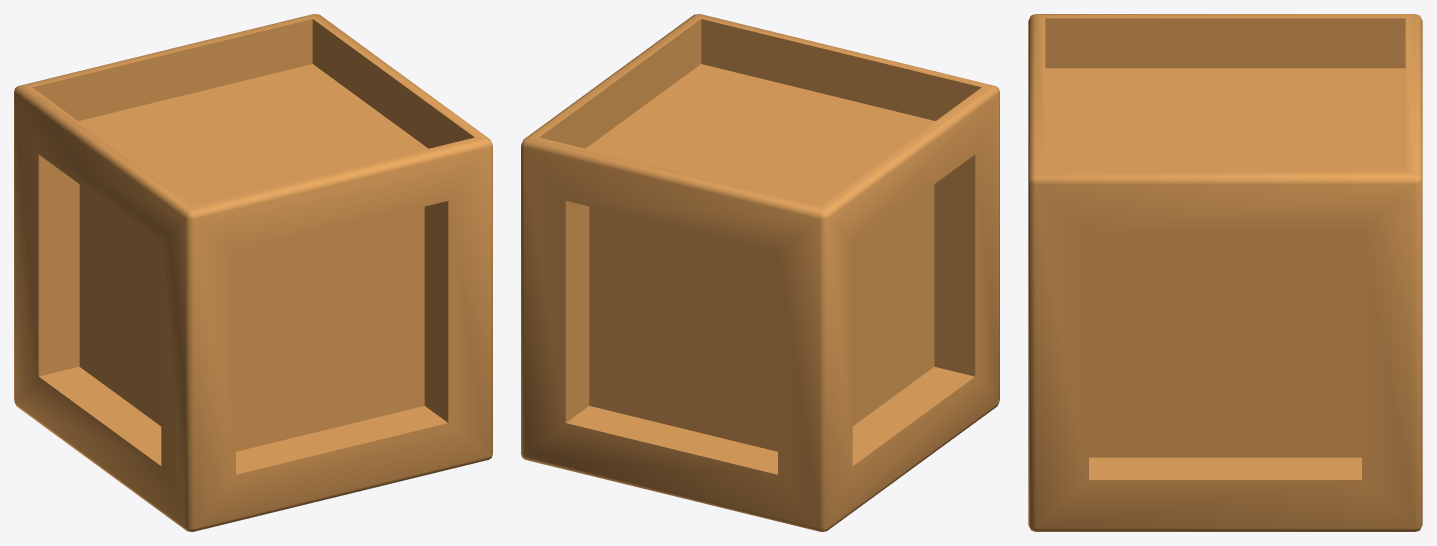
Rendered from FruttaDisplayUnity.fbx.
The picture shows the model from 3 angles, left to right: view 1: azimuth 30°, elevation 25°; view 2: azimuth 150°, elevation 25°; view 3: azimuth 270°, elevation 25°; orthographic projection. The views are drawn at different scales.
Visible parts, largest first — view 1: DisplayFrutta; view 2: DisplayFrutta; view 3: DisplayFrutta.
Boxes of the visible parts, box(x1,y1,x2,y2) form: DisplayFrutta: box(14, 14, 492, 531); DisplayFrutta: box(521, 14, 999, 531); DisplayFrutta: box(1028, 14, 1422, 531).
Bounding box in the file's own units: 146 × 146 × 146.
